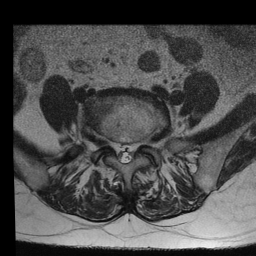CCS_normal: (121, 136, 129, 168)
LFS_stenosis: (137, 135, 145, 153)
LLS_normal: (130, 136, 137, 164)
RFS_normal: (106, 133, 114, 153)
RLS_normal: (114, 135, 121, 165)
